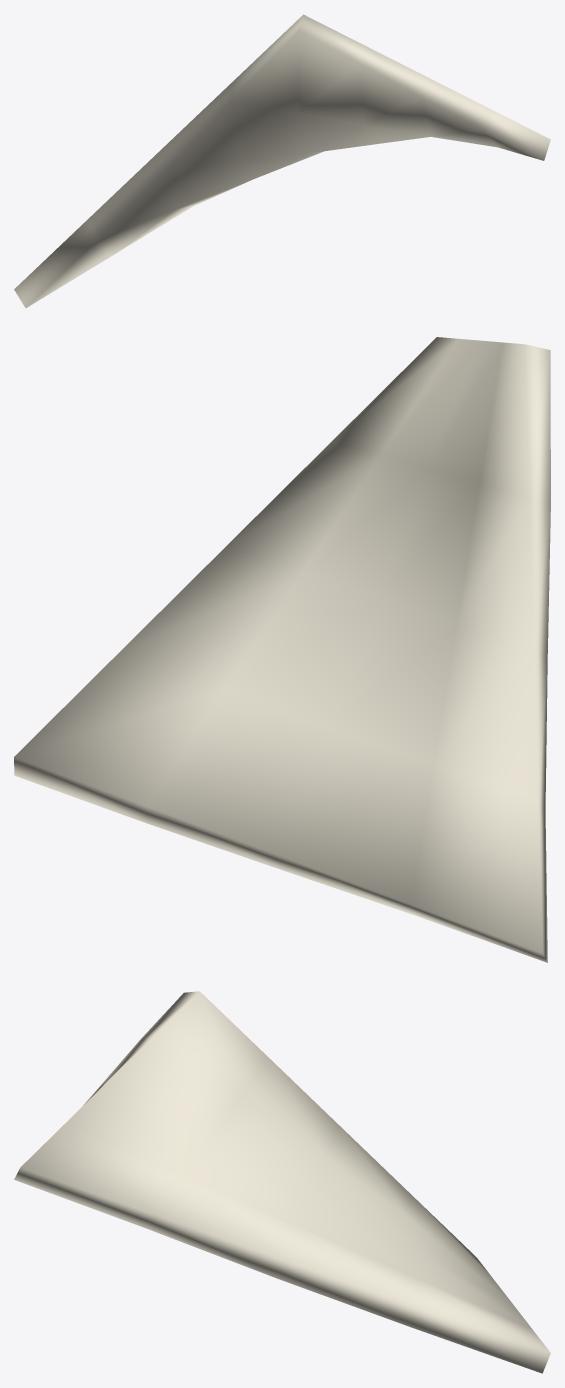
3 views of the same model, one above another, from view 1: azimuth 30°, elevation 25°; view 2: azimuth 150°, elevation 25°; view 3: azimuth 270°, elevation 25° (orthographic). The views are drawn at different scales.
Visible parts, largest first — view 1: ZA_daa3742a234809b6; view 2: ZA_daa3742a234809b6; view 3: ZA_daa3742a234809b6.
Boxes of the visible parts, x1,y1,x2,y2 form: ZA_daa3742a234809b6: (14,14,550,308); ZA_daa3742a234809b6: (14,337,550,962); ZA_daa3742a234809b6: (14,991,550,1373).
Bounding box in the file's own units: 0.0097 × 0.00859 × 0.0118.
